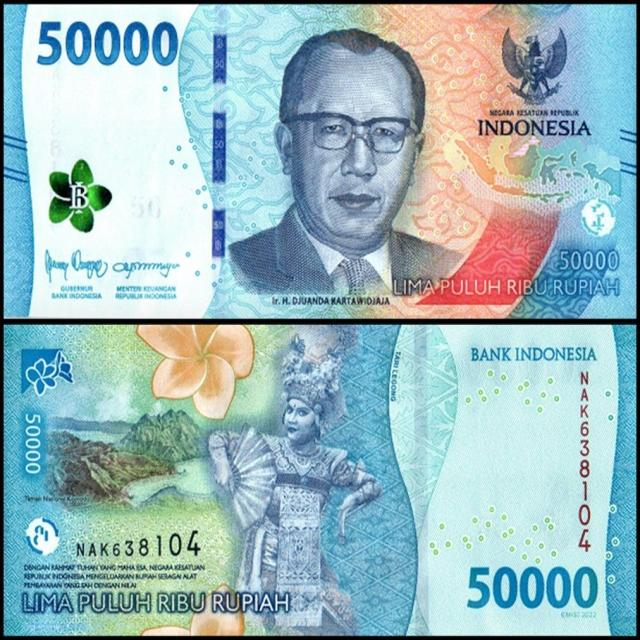lima puluh ribu rupiah: (0, 0, 640, 317), (0, 323, 640, 640)
